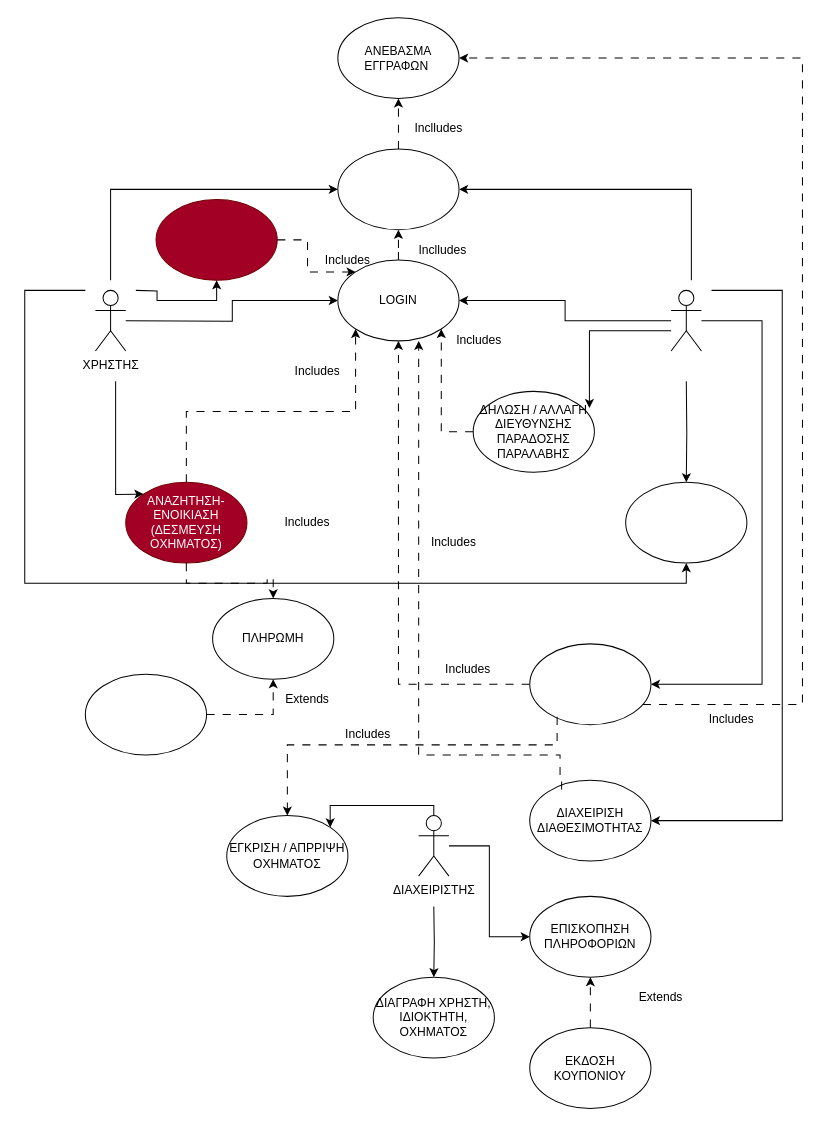
Image size: 828x1126. Some labels were removed from this diagram. Each missing label, with the centre of its shape:
ΑΞΙΟΛΌΓΗΣΗ ΑΥΤΟΚΙΝΗΤΟΥ+ ΙΔΙΟΚΤΗΤΗ: [216,239]
ΕΓΓΡΑΦΗ ΣΤΟ ΣΥΣΤΗΜΑ: [398,189]
ΕΠΙΒΕΒΑΙΩΣΗ ΠΑΡΑΔΟΣΗΣ ΠΑΡΑΛΑΒΗΣ: [686,522]
ΙΔΙΟΚΤΗΤΗΣ: [685,320]
ΚΑΤΑΧΩΡΗΣΗ ΟΧΗΜΑΤΟΣ: [590,684]
ΧΡΗΣΗ ΚΟΥΠΟΝΙΟΥ: [145,714]
